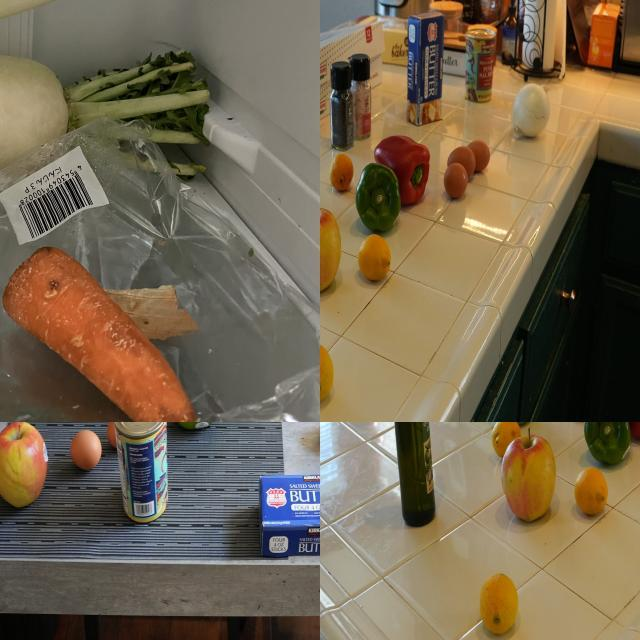bell_pepper: (373, 132, 433, 204), (355, 162, 407, 240), (327, 61, 357, 145), (586, 423, 630, 457)
carrot: (1, 244, 202, 423)
egg: (71, 428, 102, 472), (448, 148, 482, 186), (443, 164, 473, 206), (467, 139, 493, 176)
onion: (510, 86, 556, 141)
